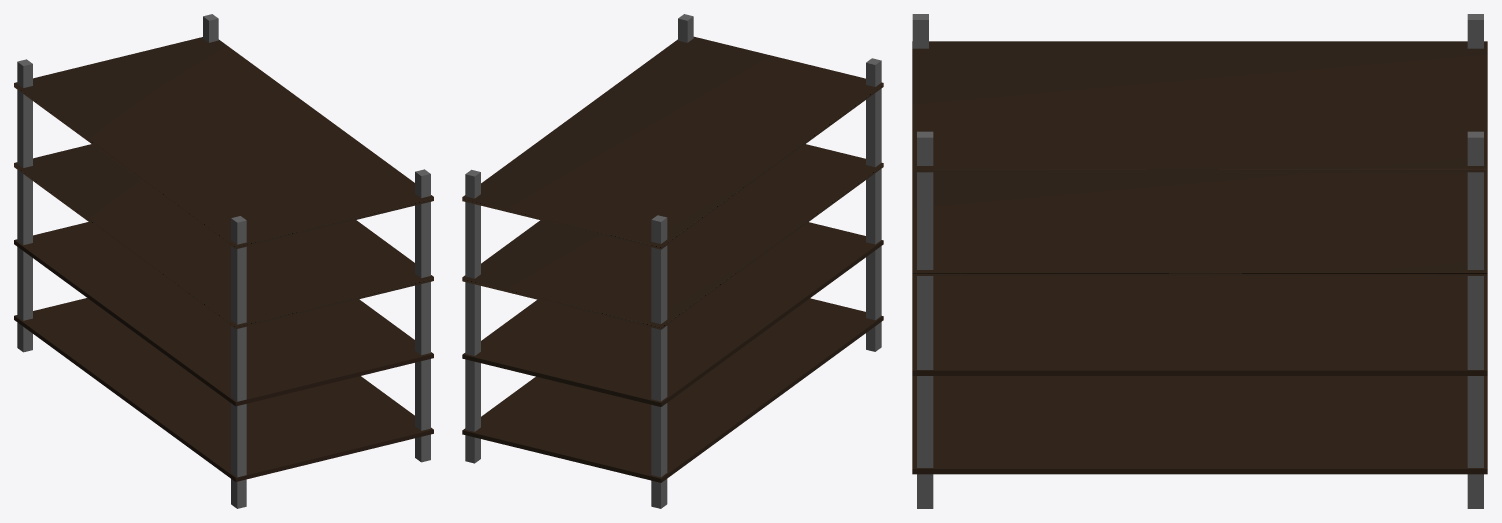
Rendered from rack.fbx.
The picture shows the model from 3 angles, left to right: view 1: azimuth 30°, elevation 25°; view 2: azimuth 150°, elevation 25°; view 3: azimuth 270°, elevation 25°; orthographic projection. The views are drawn at different scales.
Visible parts, largest first — view 1: Cube.007, Cube.006, Cube.005, Cube.004, Cube, Cube.001, Cube.003; view 2: Cube.007, Cube.006, Cube.005, Cube.004, Cube.003, Cube.002, Cube; view 3: Cube.007, Cube.006, Cube.005, Cube.004, Cube.001, Cube.002.
Boxes of the visible parts, bbox=[...] form: Cube.007: bbox=[14, 37, 433, 249]; Cube.006: bbox=[14, 144, 433, 329]; Cube.005: bbox=[14, 222, 433, 406]; Cube.004: bbox=[14, 298, 433, 481]; Cube: bbox=[231, 216, 246, 508]; Cube.001: bbox=[415, 169, 430, 462]; Cube.003: bbox=[17, 59, 32, 352]; Cube.007: bbox=[462, 36, 883, 249]; Cube.006: bbox=[462, 144, 883, 329]; Cube.005: bbox=[462, 222, 883, 406]; Cube.004: bbox=[462, 298, 883, 482]; Cube.003: bbox=[651, 215, 667, 508]; Cube.002: bbox=[465, 169, 480, 463]; Cube: bbox=[866, 58, 881, 351]; Cube.007: bbox=[912, 41, 1487, 172]; Cube.006: bbox=[912, 172, 1487, 275]; Cube.005: bbox=[912, 276, 1487, 375]; Cube.004: bbox=[912, 376, 1487, 474]; Cube.001: bbox=[917, 131, 933, 508]; Cube.002: bbox=[1467, 131, 1483, 508].
Size of the model in its own units: 214 by 295 by 414.
